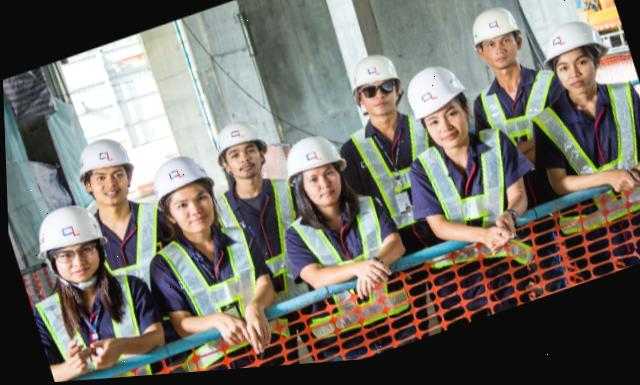helmet: (26, 197, 102, 263), (398, 63, 470, 131), (142, 146, 213, 204), (67, 130, 136, 189), (274, 131, 343, 188), (206, 113, 267, 169), (541, 21, 607, 72), (342, 49, 401, 100), (466, 4, 519, 54)
vest: (152, 214, 280, 376), (203, 171, 331, 330), (468, 64, 591, 213), (280, 197, 405, 343), (526, 85, 640, 244), (27, 261, 171, 384), (413, 128, 529, 278), (76, 191, 190, 334), (347, 108, 452, 244)
